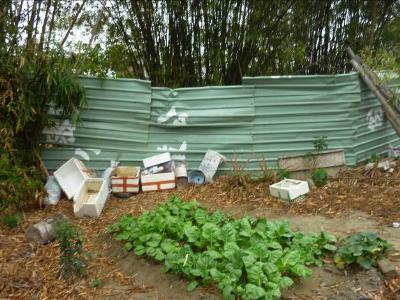plastic_bag: (199, 148, 225, 181)
styrofoam: (52, 157, 91, 202), (75, 176, 110, 218), (268, 179, 310, 202), (111, 163, 141, 194), (141, 171, 176, 193), (142, 152, 173, 170)
